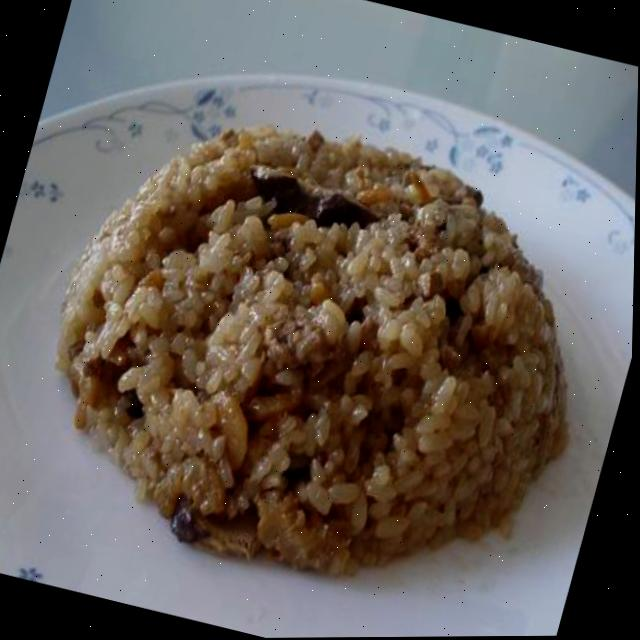米饭主食: (0, 29, 639, 640)
